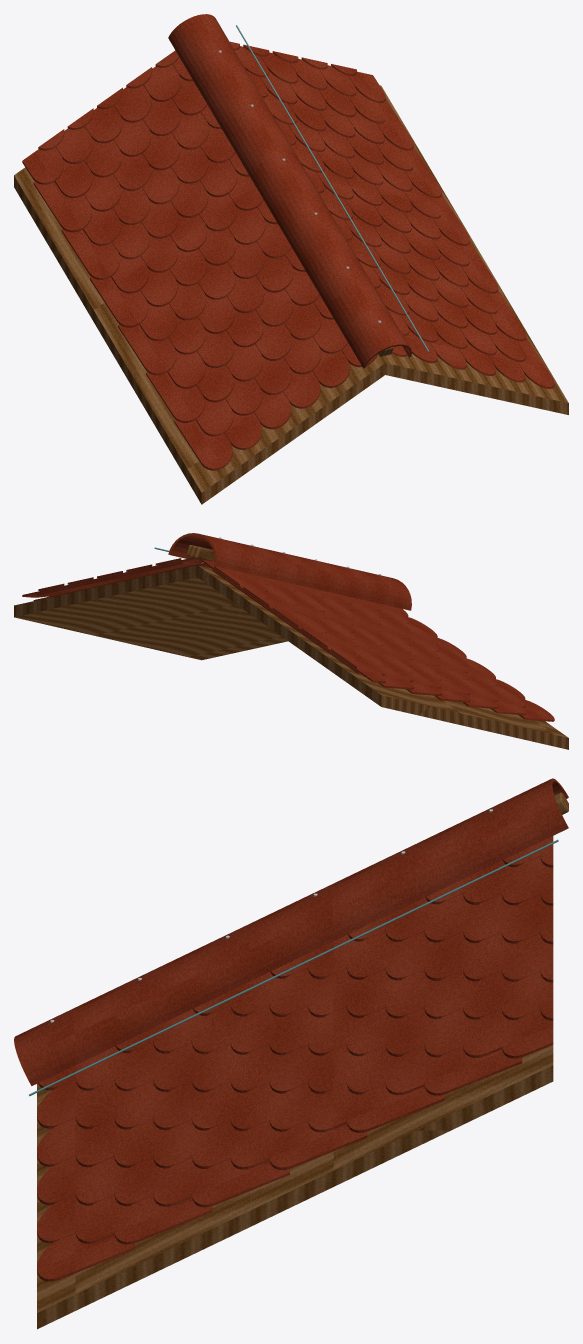
Rendered from modell.glb.
3 views of the same model, one above another, from view 1: azimuth 30°, elevation 25°; view 2: azimuth 150°, elevation 25°; view 3: azimuth 270°, elevation 25° (orthographic). The views are drawn at different scales.
Visible parts, largest first — view 1: w04-ziegel_deckung, w04-gratziegel_deckung, w04-walmflaeche_tragwerk, w04-bezuege_; view 2: w04-walmflaeche_tragwerk, w04-ziegel_deckung, w04-gratziegel_deckung, w04-gratlatte_lattung; view 3: w04-ziegel_deckung, w04-gratziegel_deckung, w04-walmflaeche_tragwerk, w04-bezuege_.
Boxes of the visible parts, x1=… form: w04-ziegel_deckung: x1=22, y1=41, x2=554, y2=470; w04-gratziegel_deckung: x1=168, y1=14, x2=411, y2=368; w04-walmflaeche_tragwerk: x1=14, y1=85, x2=568, y2=504; w04-bezuege_: x1=236, y1=25, x2=429, y2=352; w04-walmflaeche_tragwerk: x1=14, y1=565, x2=568, y2=749; w04-ziegel_deckung: x1=22, y1=558, x2=554, y2=721; w04-gratziegel_deckung: x1=168, y1=533, x2=411, y2=610; w04-gratlatte_lattung: x1=186, y1=545, x2=214, y2=561; w04-ziegel_deckung: x1=37, y1=836, x2=553, y2=1281; w04-gratziegel_deckung: x1=14, y1=778, x2=568, y2=1085; w04-walmflaeche_tragwerk: x1=37, y1=1045, x2=553, y2=1329; w04-bezuege_: x1=29, y1=839, x2=558, y2=1096.
Bounding box in the file's own units: 2.26 × 1.81 × 2.15.
Materials: 4 (2 with a texture image).
